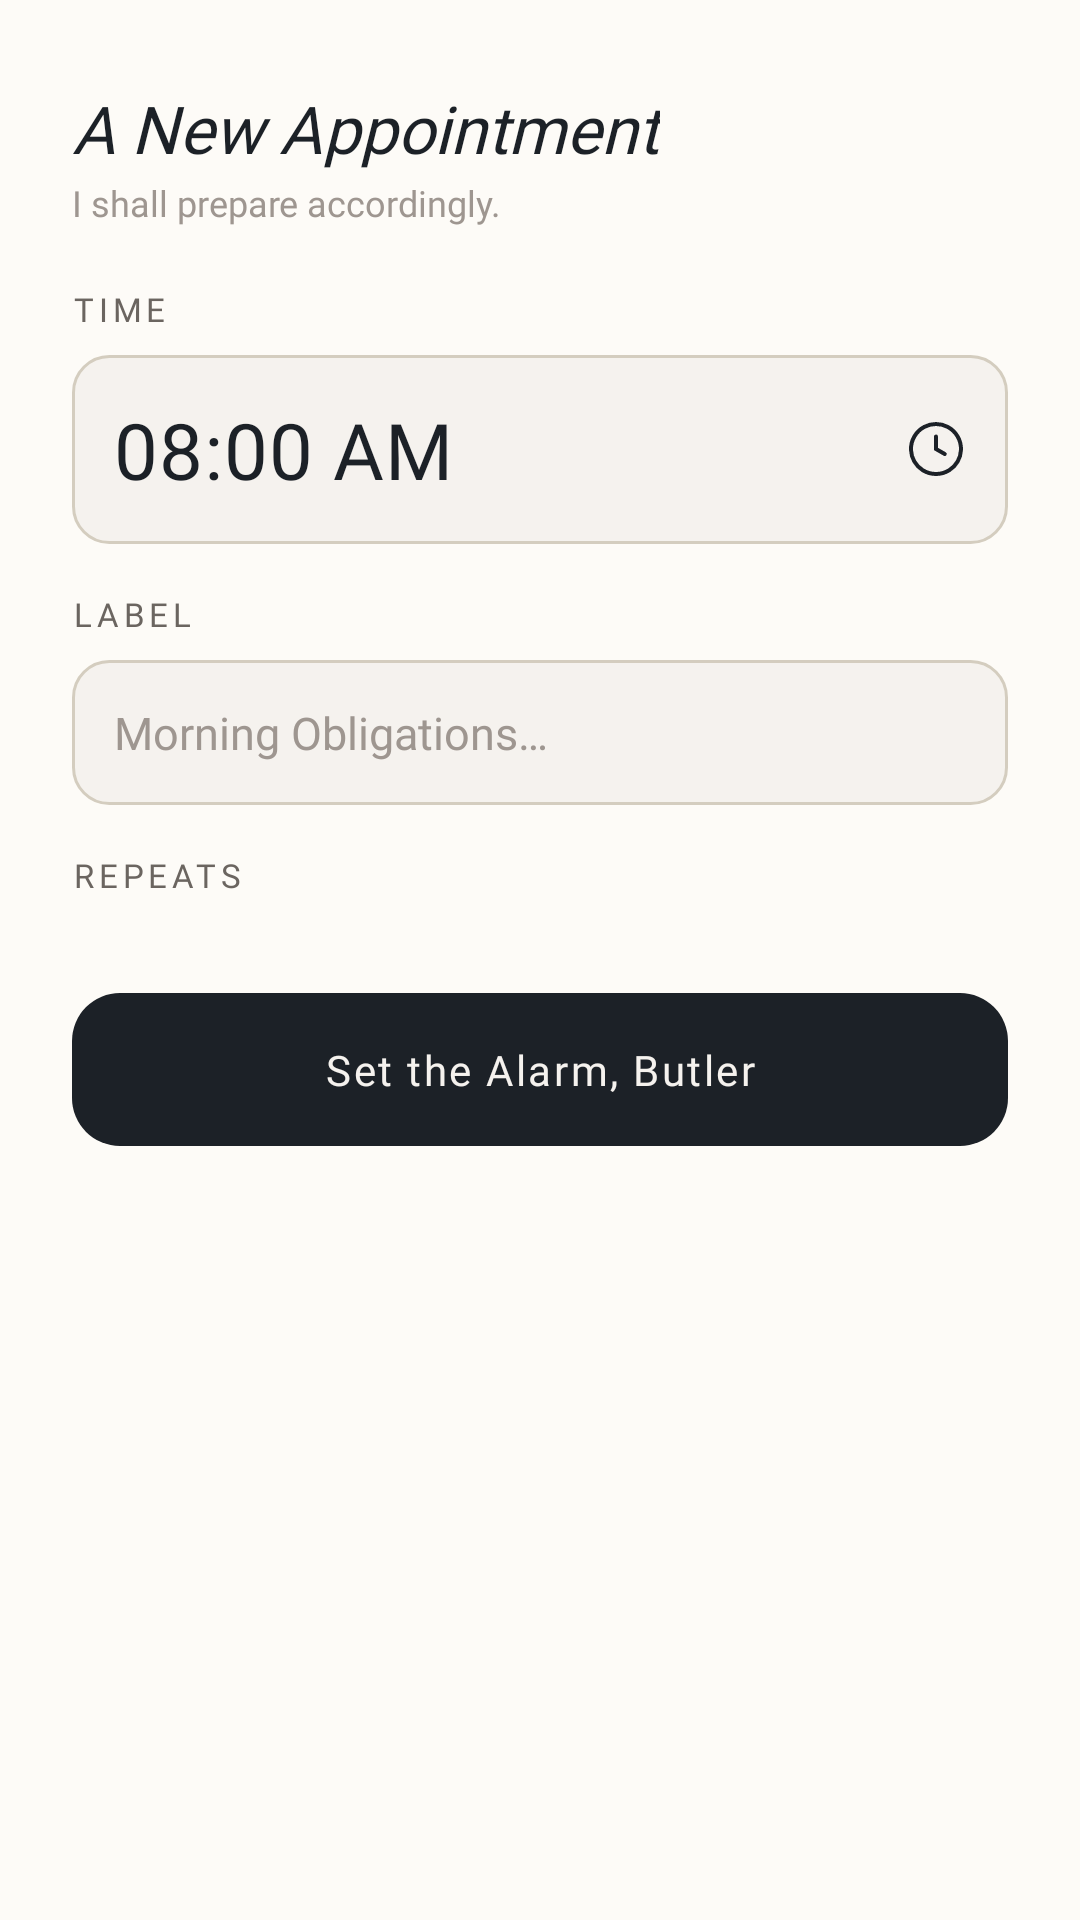

Locate icon controls on the screen. Image size 1080×1920, boxes as {"left": x1, "top": y1, "right": x2, "bottom": y2}.
clock: {"left": 909, "top": 422, "right": 963, "bottom": 476}
